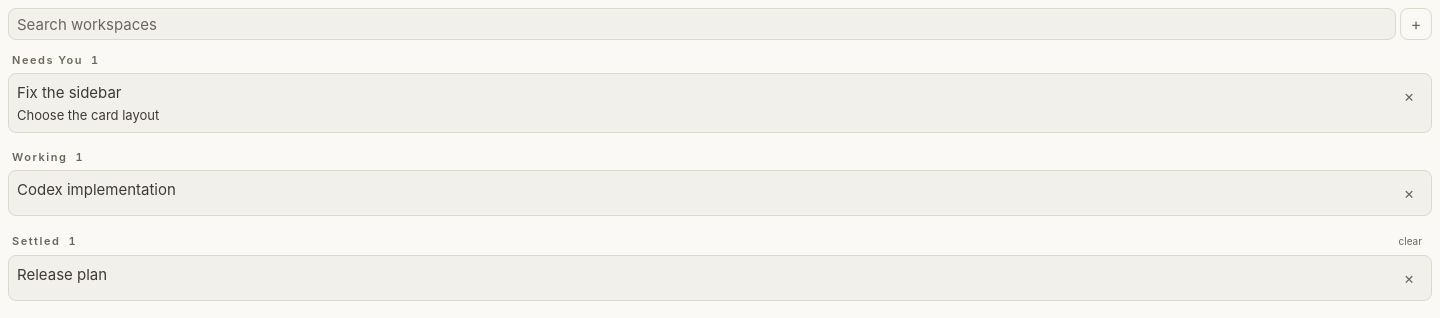
ProjectsSidebar adaptive workspace seam › keeps the search query when Escape closes card color actions
Expected: the button "Codex implementation" is shown, [17,179,1391,200]
Type "codex" into the search field named "Search workspaces" at (702, 24), box [8,8,1396,40]
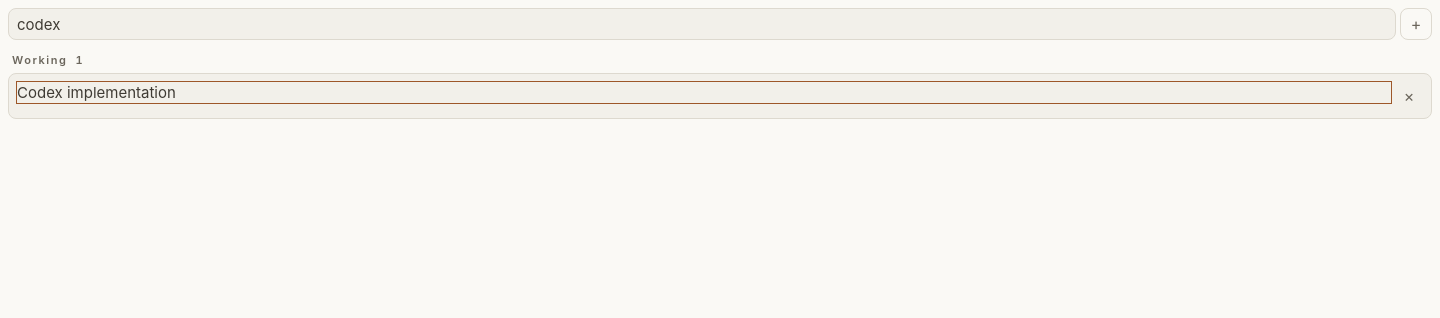
Right-click the button "Codex implementation" at (96, 92), box [17,82,1391,103]
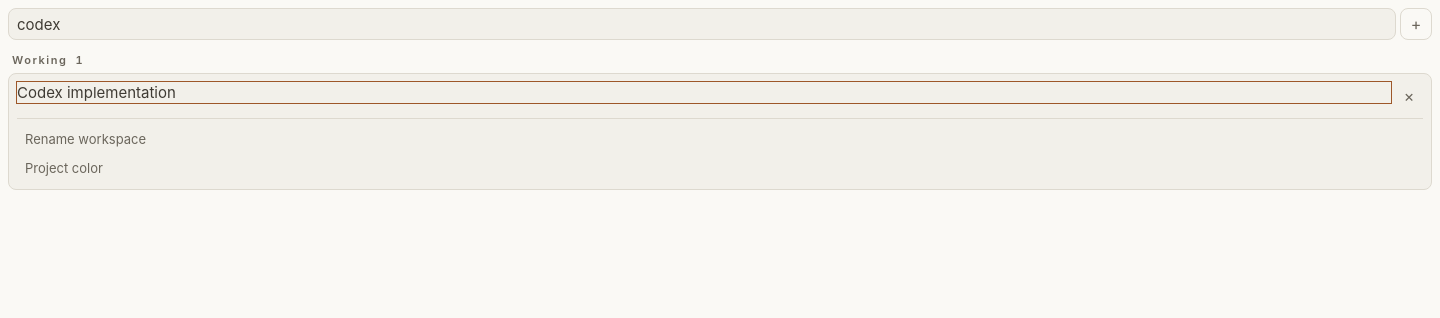
Click the button with aria-label "Project color for Website" at (64, 168), box [17,156,1423,181]
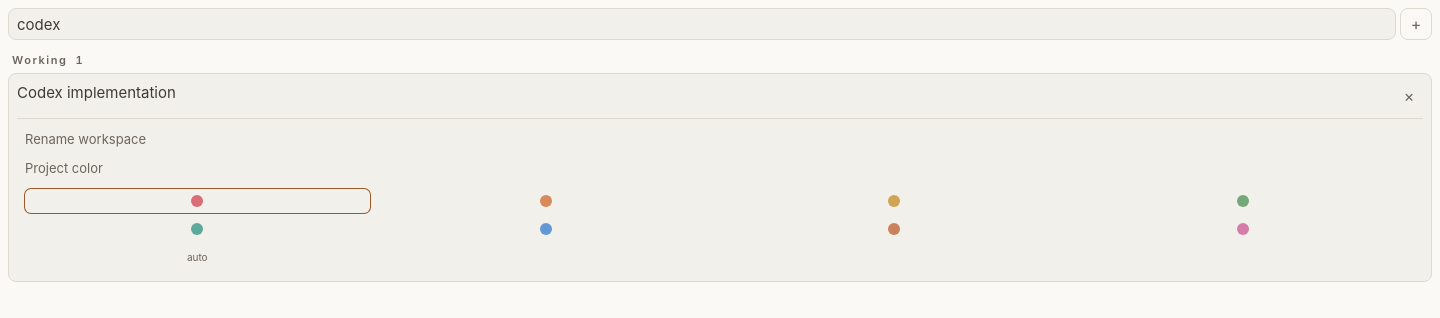
Press Escape
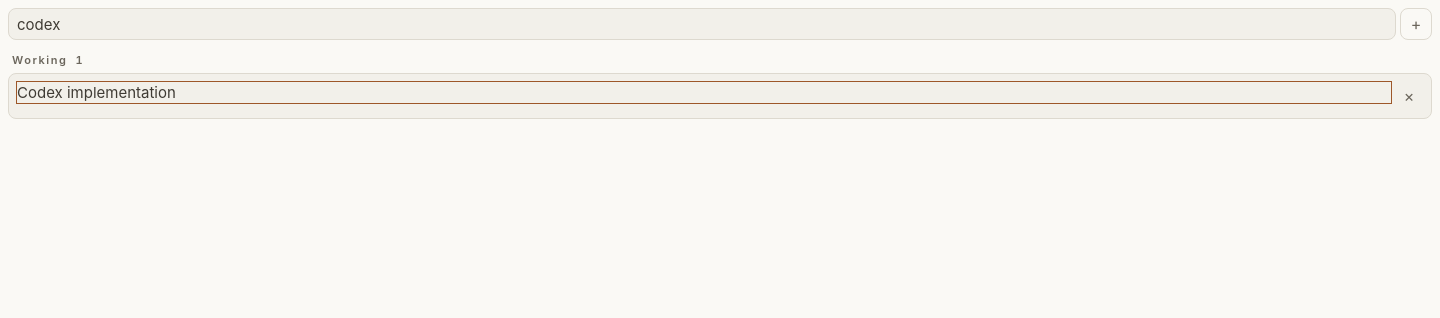
Result: the element with id "workspace-actions-working" is gone
